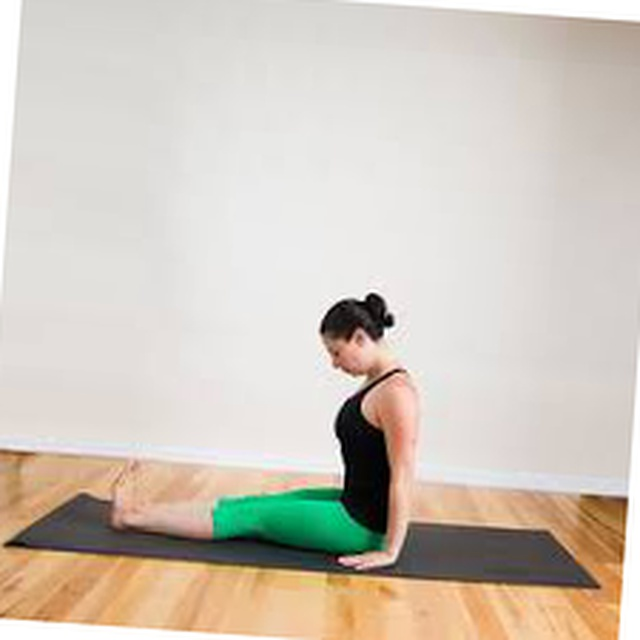Staff_Pose: (107, 290, 423, 574)
